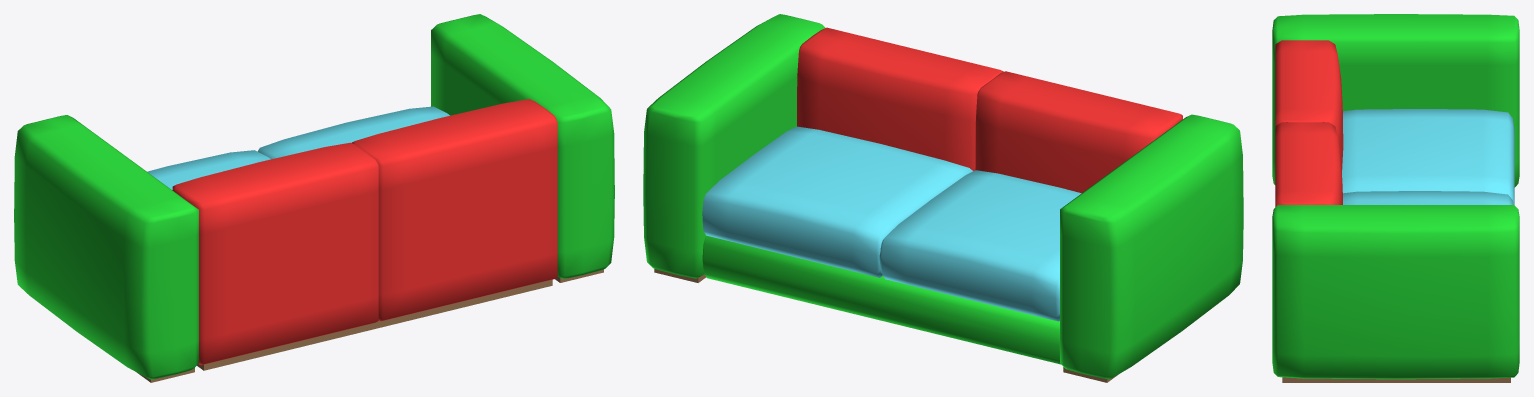
Rendered from sofa_3.FBX.
The picture shows the model from 3 angles, left to right: view 1: azimuth 30°, elevation 25°; view 2: azimuth 150°, elevation 25°; view 3: azimuth 270°, elevation 25°; orthographic projection. The views are drawn at different scales.
Parts seen in each view (by area): view 1: sofa_3; view 2: sofa_3; view 3: sofa_3.
Boxes of the visible parts, x1,y1,x2,y2 form: sofa_3: (14, 14, 614, 382); sofa_3: (643, 14, 1243, 382); sofa_3: (1272, 14, 1519, 382).
Bounding box in the file's own units: 2.01 × 0.6659 × 0.9459.
